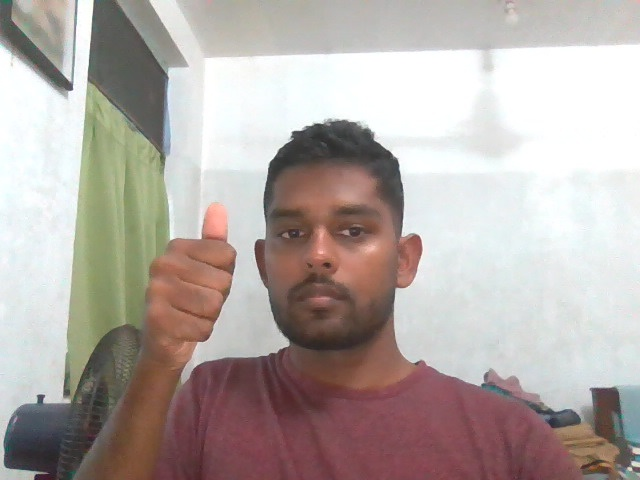good.: (127, 195, 243, 370)
